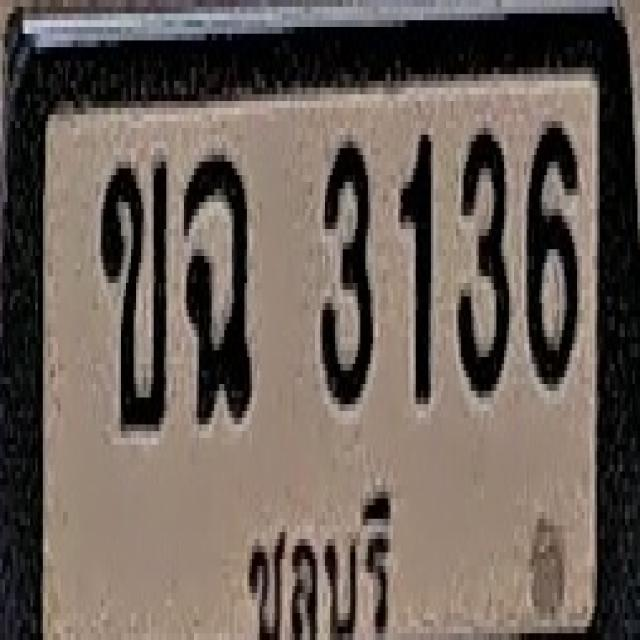1: (398, 128, 431, 397)
3: (456, 125, 509, 394), (320, 138, 373, 401)
6: (527, 121, 577, 384)
A02: (101, 158, 166, 428)
A09: (182, 148, 250, 418)
CBI: (237, 485, 402, 640)
